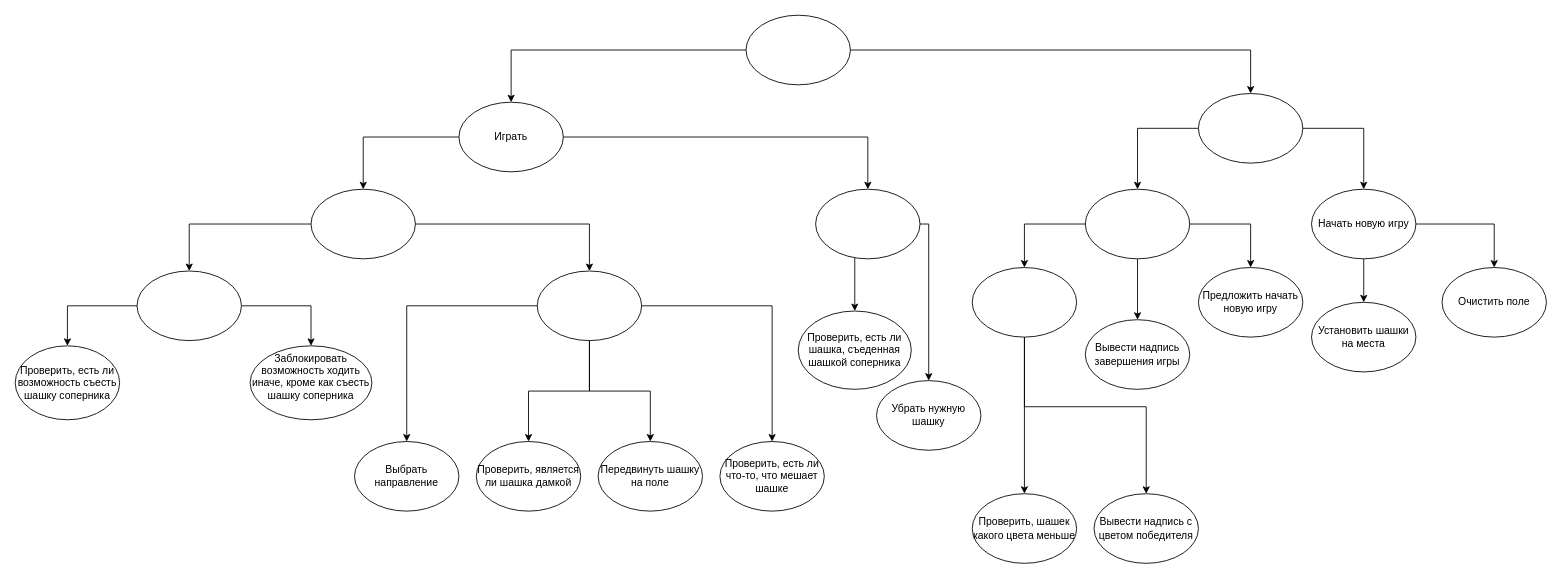
This 1562x579 diagram has some shape labels left out. The centre of each missing label's shape, as x and y in pixels:
"Брать" шашками: (x=188, y=305)
Двигать шашки: (x=589, y=305)
Закончить игру: (x=1137, y=223)
Играть в поддавки: (x=797, y=49)
Определить победителя: (x=1024, y=302)
Убрать съеденные шашки: (x=867, y=223)
Управлять игрой: (x=1250, y=128)
Управлять шашками: (x=362, y=223)
